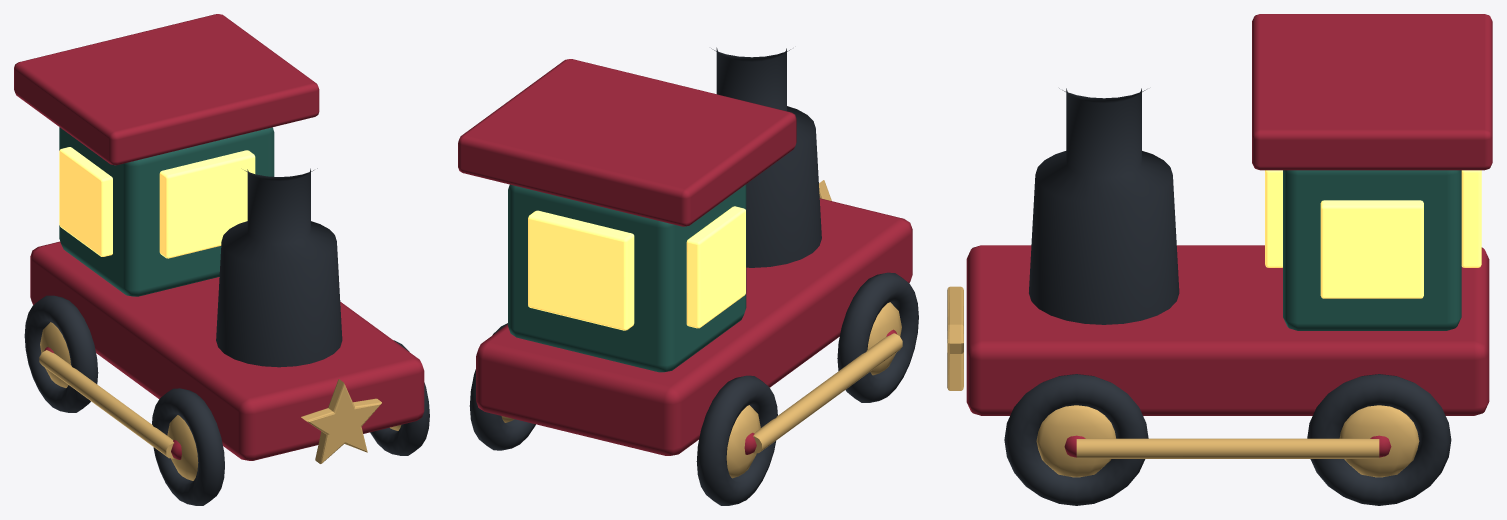
File: christmas-storybook-clockwork-locomotive-2ae4f47d__18750.glb
The picture shows the model from 3 angles, left to right: view 1: azimuth 30°, elevation 25°; view 2: azimuth 150°, elevation 25°; view 3: azimuth 270°, elevation 25°; orthographic projection. The views are drawn at different scales.
Parts seen in each view (by area): view 1: berry, ink, pine, light, brass; view 2: berry, ink, pine, light, brass; view 3: berry, ink, pine, brass, light.
Boxes of the visible parts, x1,y1,x2,y2 form: berry: (14,14,424,460); ink: (24,168,429,505); pine: (59,127,274,296); light: (59,147,255,258); brass: (39,322,401,480); berry: (458,59,912,455); ink: (469,47,918,505); pine: (508,184,746,372); light: (528,206,745,330); brass: (501,180,902,478); berry: (966,14,1492,457); ink: (1004,88,1451,505); pine: (1283,170,1461,330); brass: (947,286,1419,477); light: (1265,170,1481,298).
Size of the model in its own units: 0.4986 by 0.6 by 0.793.
